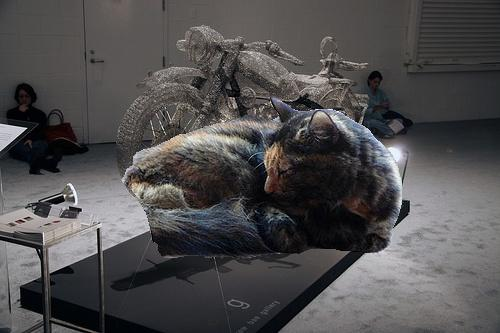tampered: (122, 98, 402, 258)
